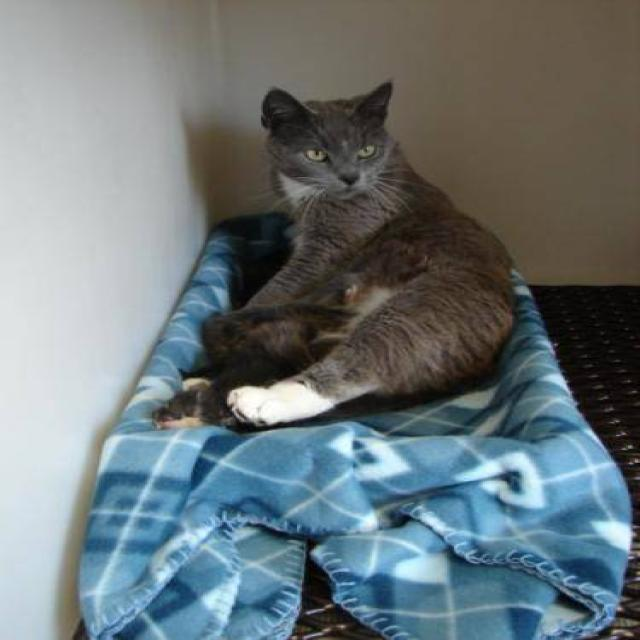cat: (152, 78, 517, 432)
